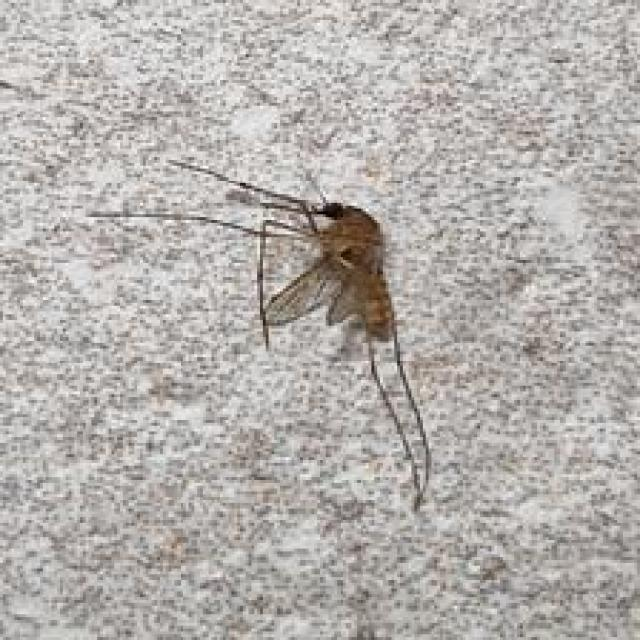Culex: (86, 153, 434, 513)
